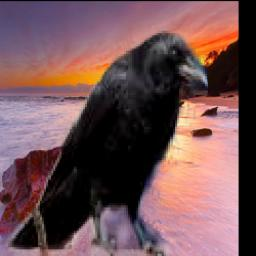Crow: (1, 26, 208, 256)
